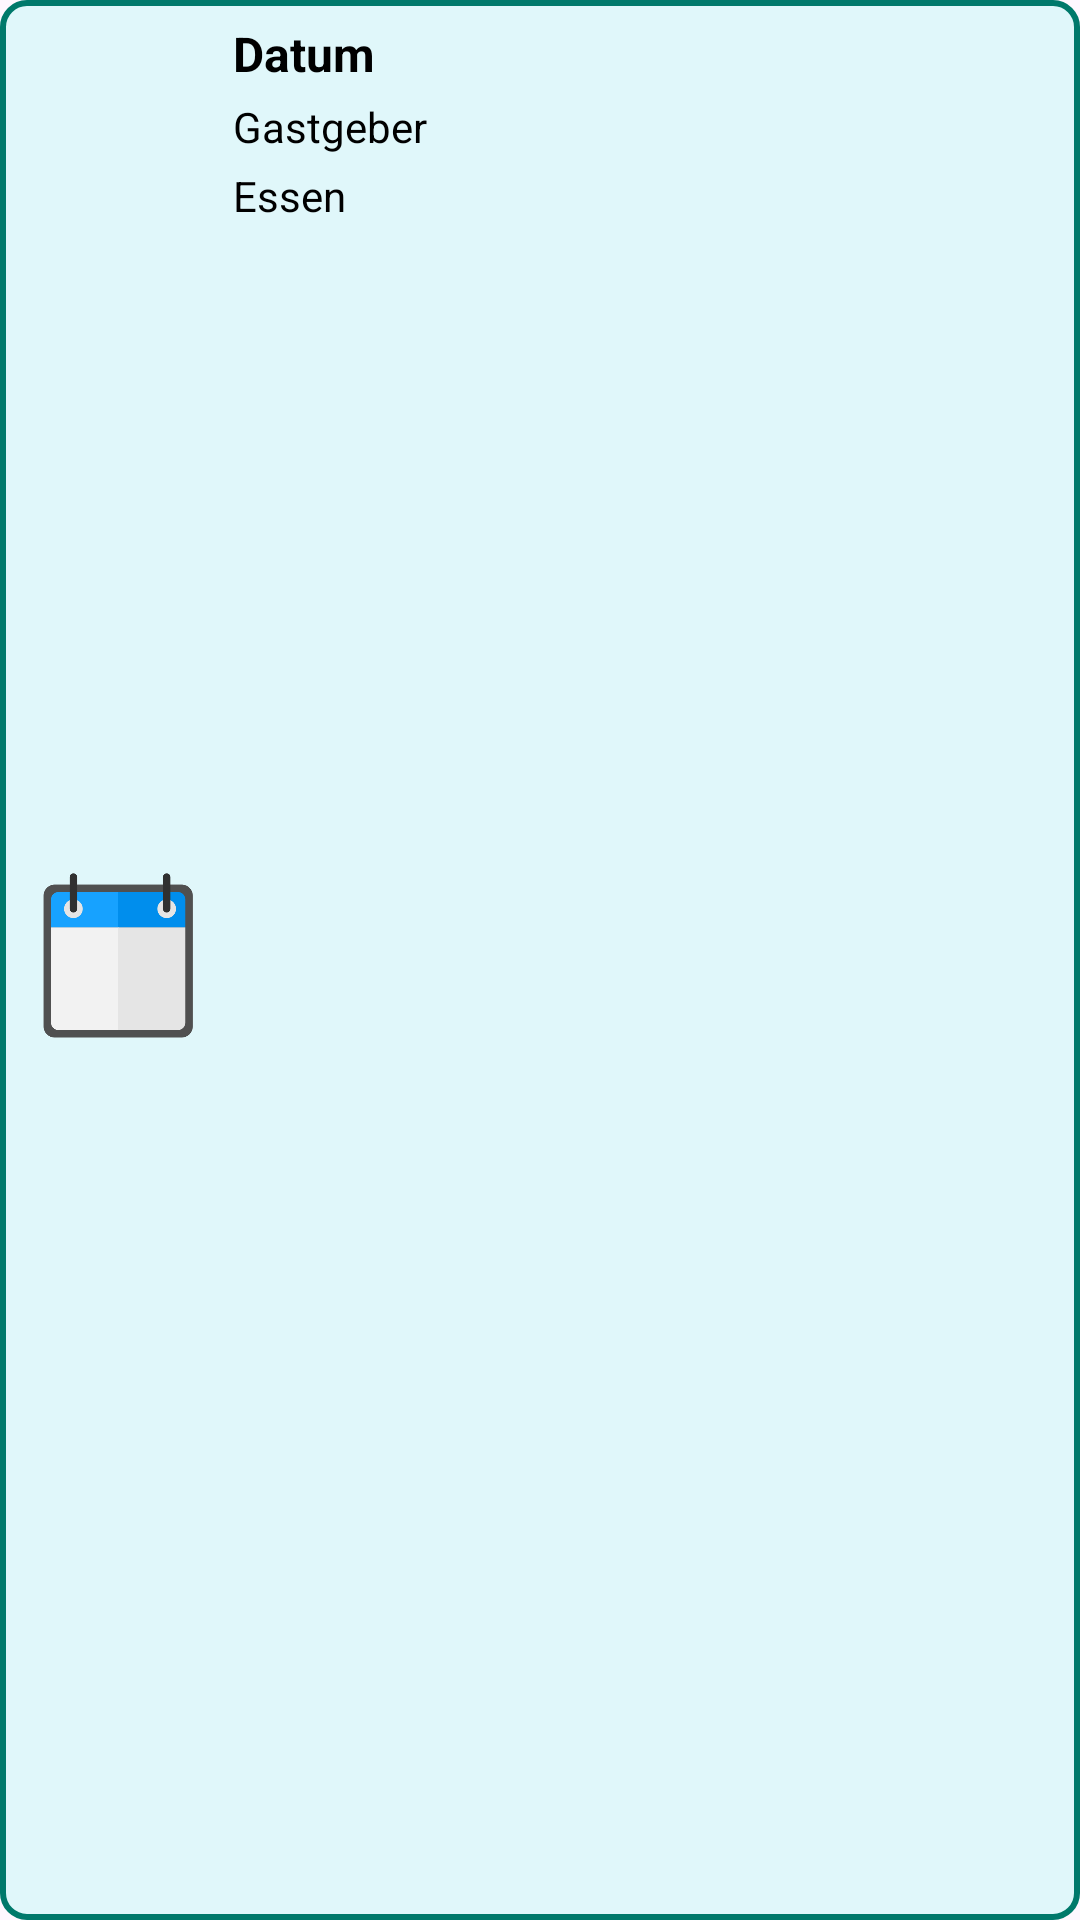

Icons on this 1080px×1920px Android screen, each with its box as box(x1, y1, x2, y2):
kalender: box(43, 873, 193, 1038)
